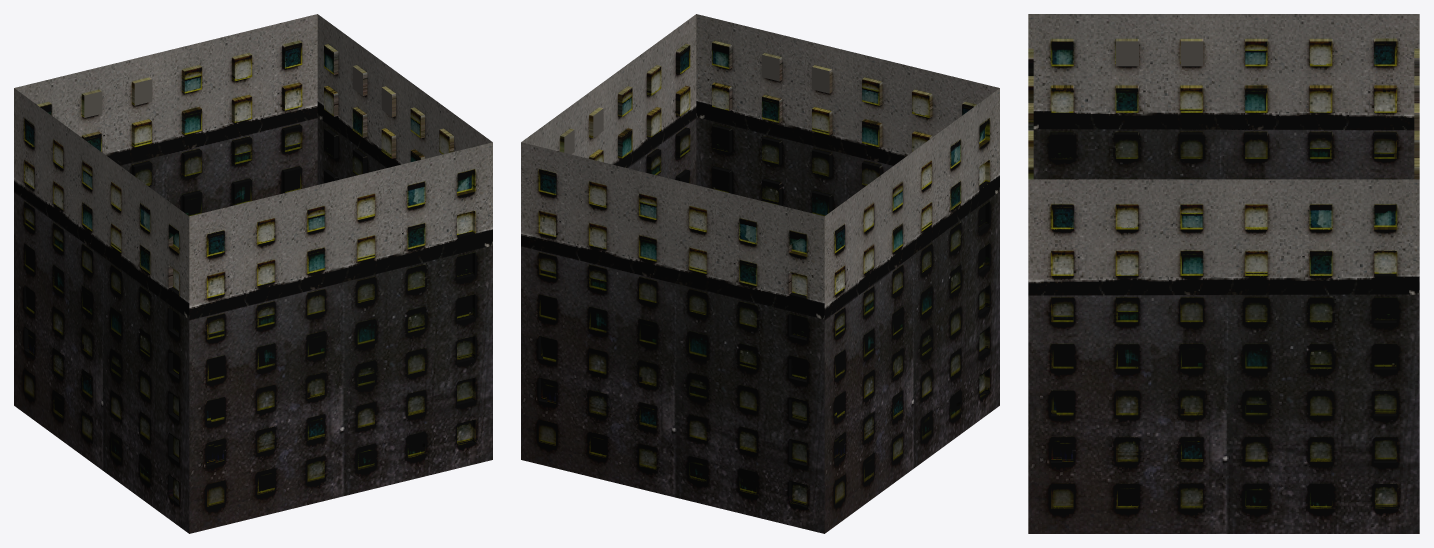
File: building1.fbx
3 views of the same model, side by side, from view 1: azimuth 30°, elevation 25°; view 2: azimuth 150°, elevation 25°; view 3: azimuth 270°, elevation 25° (orthographic). The views are drawn at different scales.
Visible parts, largest first — view 1: Plane; view 2: Plane; view 3: Plane.
Part boxes in pixels (x1,y1,x2,y2): Plane: [14, 14, 492, 533]; Plane: [521, 14, 999, 533]; Plane: [1028, 14, 1419, 533].
Bounding box in the file's own units: 4000 × 4000 × 4000.
Materials: 1 (1 with a texture image).
